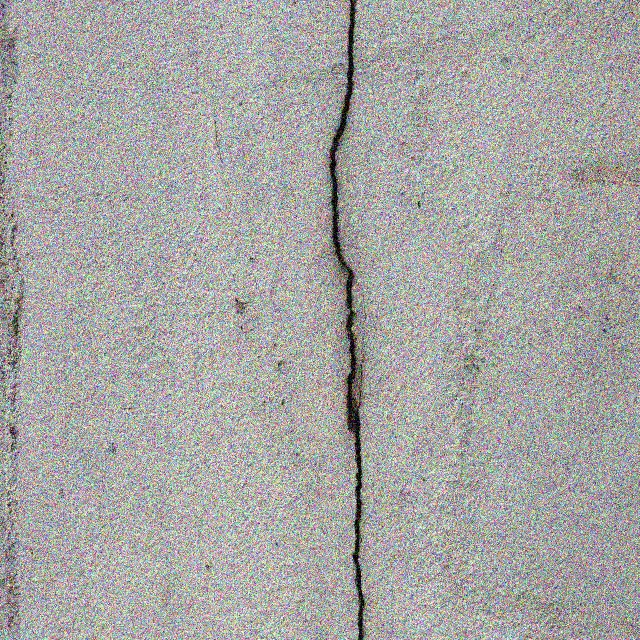SurfaceCrack: (280, 1, 414, 640), (0, 1, 67, 640)
